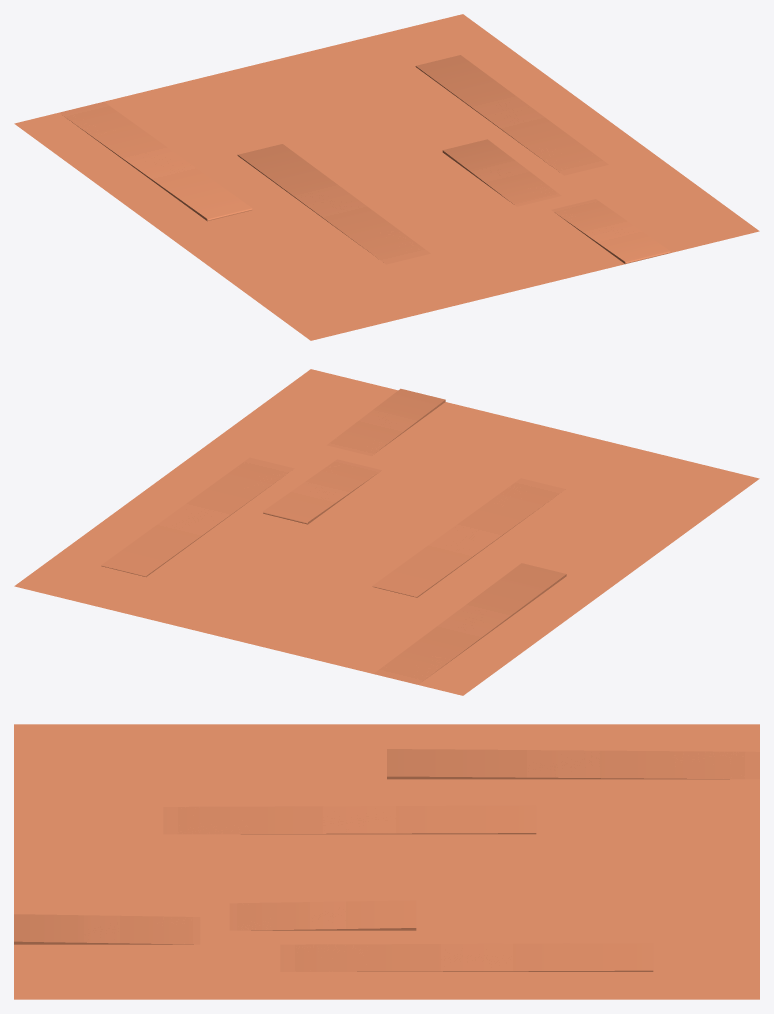
File: floor-wood.001_lev2.glb
3 renders of one model, top to bottom at view 1: azimuth 30°, elevation 25°; view 2: azimuth 150°, elevation 25°; view 3: azimuth 270°, elevation 25°, orthographic. The views are drawn at different scales.
Visible parts, largest first — view 1: floor-wood.001_lev2; view 2: floor-wood.001_lev2; view 3: floor-wood.001_lev2.
Boxes of the visible parts, box(x1,y1,x2,y2) form: floor-wood.001_lev2: box(14, 14, 759, 340); floor-wood.001_lev2: box(14, 369, 759, 695); floor-wood.001_lev2: box(14, 724, 759, 999).
Bounding box in the file's own units: 5.09 × 0.025 × 5.83.
1 material, 1 textured.
